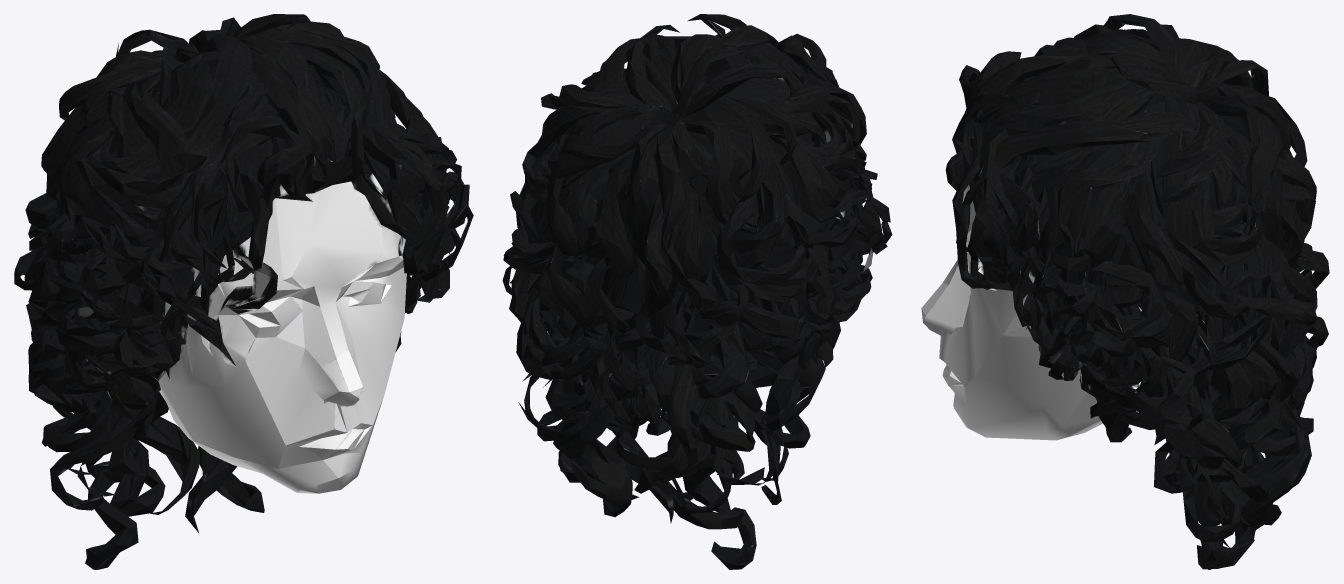
File: hair_m_wild.glb
The picture shows the model from 3 angles, left to right: view 1: azimuth 30°, elevation 25°; view 2: azimuth 150°, elevation 25°; view 3: azimuth 270°, elevation 25°; orthographic projection. The views are drawn at different scales.
Bounding box in the file's own units: 1.39 × 1.89 × 1.31.
1 material, 1 textured.
